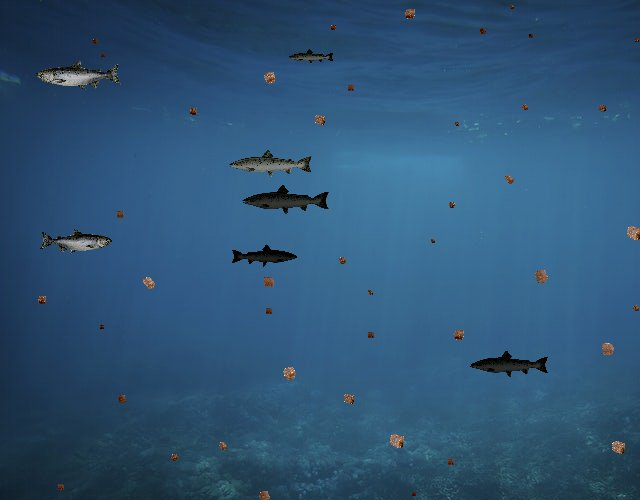Fish: (241, 184, 331, 216), (228, 148, 314, 179), (36, 60, 122, 91), (469, 350, 550, 379), (39, 229, 112, 255), (230, 244, 298, 268), (288, 49, 335, 66)
Pellet: (308, 109, 331, 132), (499, 169, 519, 189), (185, 103, 202, 120), (363, 328, 378, 342), (89, 36, 102, 49), (452, 118, 462, 128)
